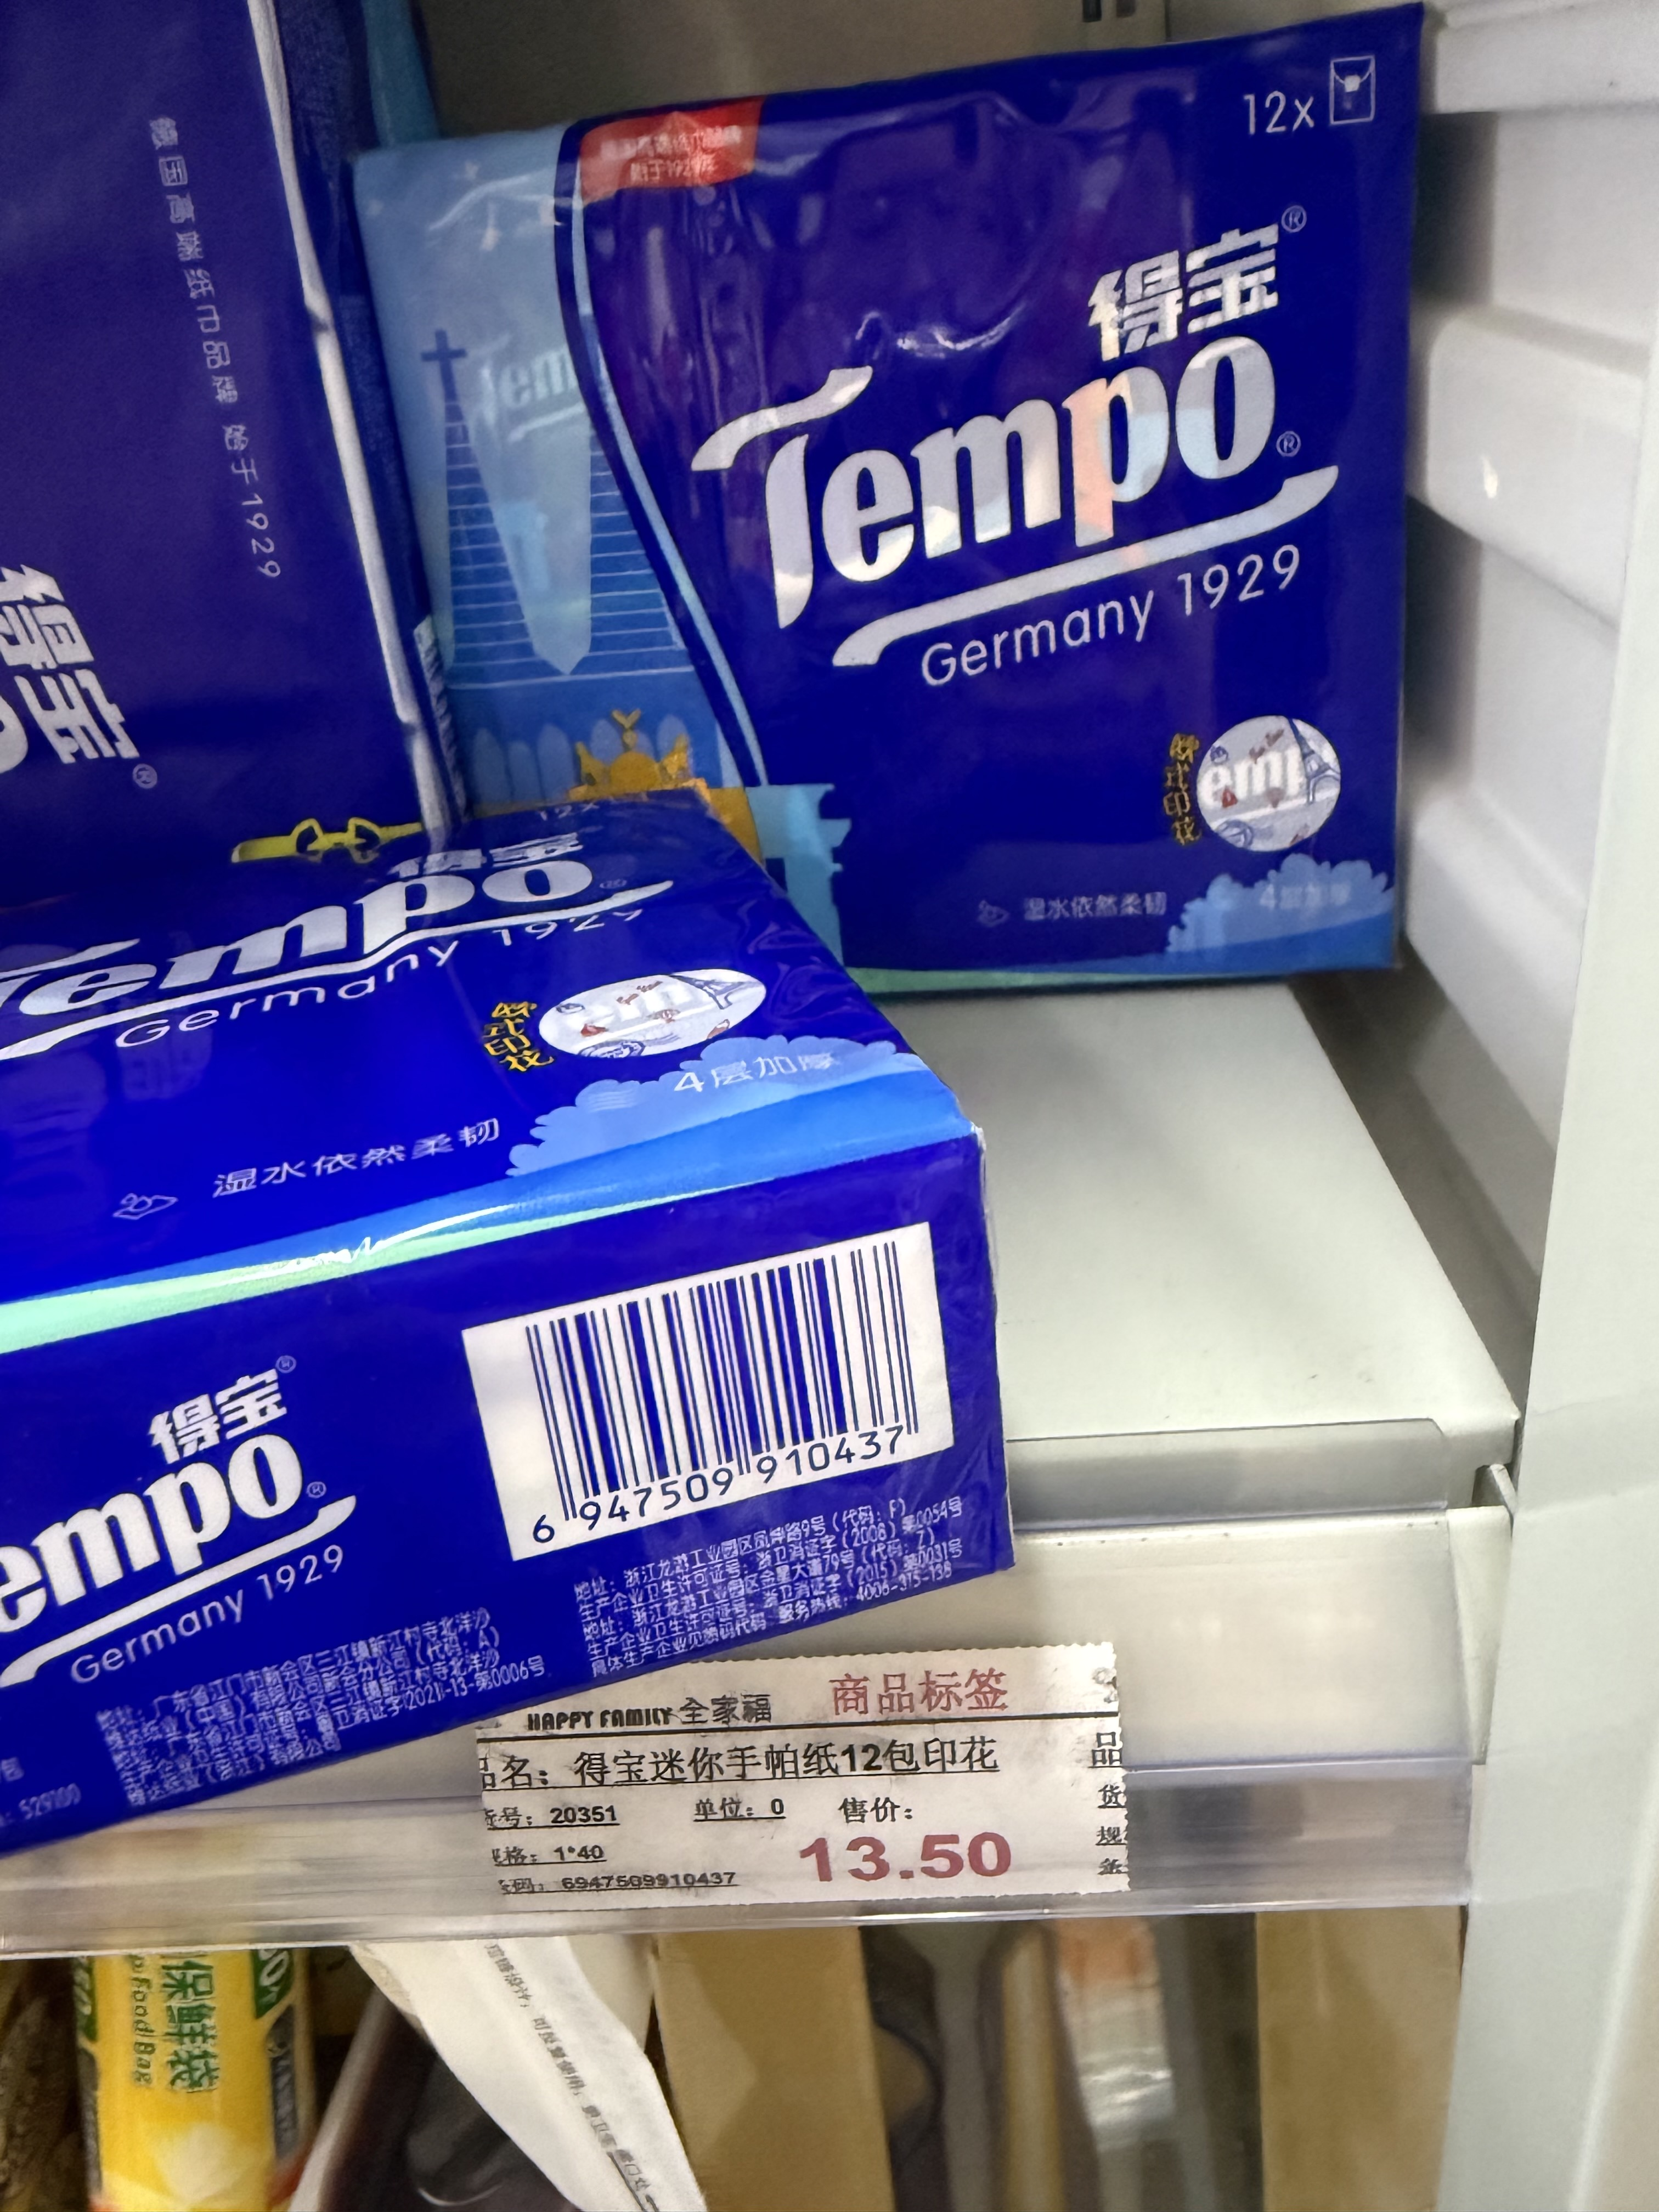bar: (518, 1226, 925, 1524)
